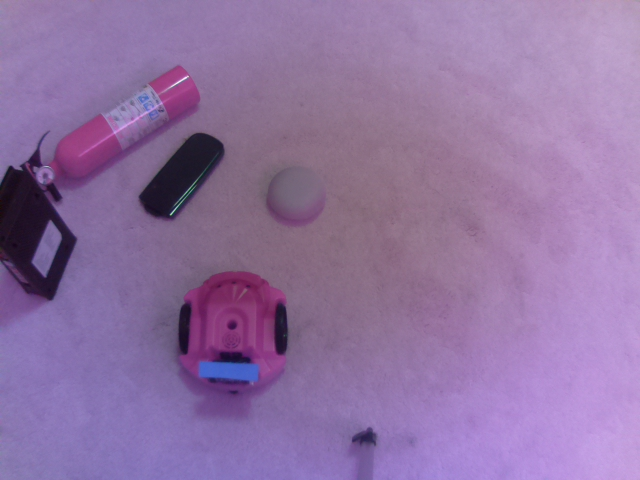board: (196, 358, 261, 385)
chassis: (171, 269, 293, 400)
